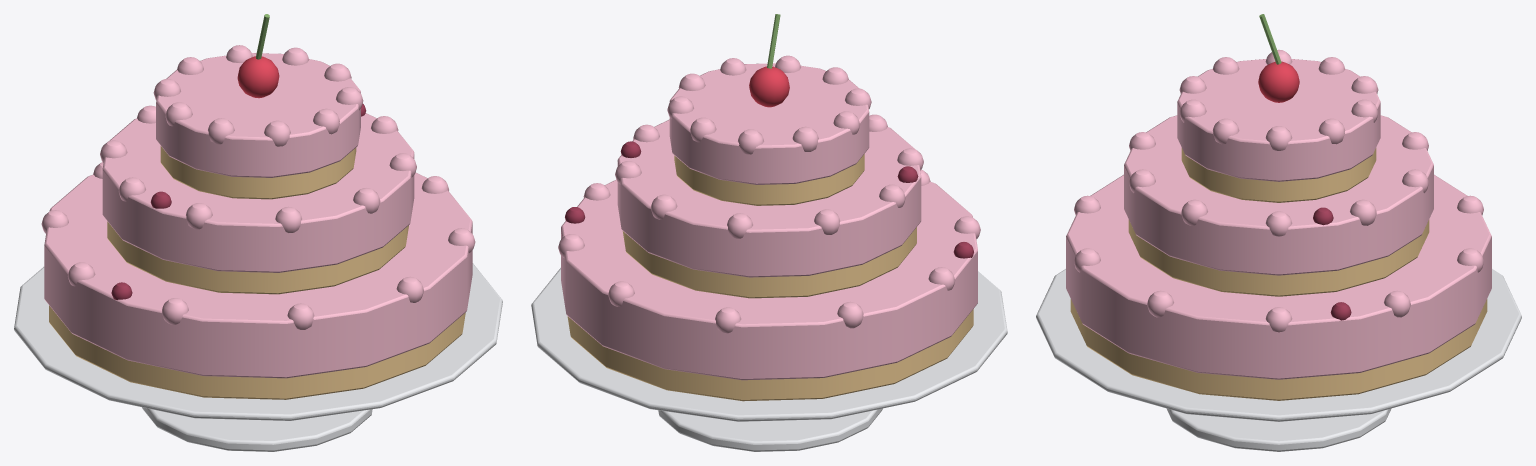
Rendered from cake.low.glb.
3 views of the same model, side by side, from view 1: azimuth 30°, elevation 25°; view 2: azimuth 150°, elevation 25°; view 3: azimuth 270°, elevation 25° (orthographic). The views are drawn at different scales.
Parts seen in each view (by area): view 1: tier1, tier2, stand, tier3, cream3, cream2, cream1, topper, berries; view 2: tier1, tier2, stand, tier3, cream3, cream2, cream1, topper, berries; view 3: tier1, tier2, tier3, stand, cream3, cream1, cream2, topper, berries.
Part boxes in pixels (x1,y1,x2,y2): tier1: (44,172,472,399); tier2: (102,113,414,294); stand: (14,263,502,451); tier3: (156,53,360,199); cream3: (153,45,363,146); cream2: (100,105,416,232); cream1: (41,162,475,329); topper: (237,14,279,98); berries: (111,103,366,299); tier1: (561,179,977,401); tier2: (617,119,921,298); stand: (531,268,1007,451); tier3: (669,63,869,205); cream3: (667,55,871,154); cream2: (615,114,923,238); cream1: (558,169,980,333); topper: (749,14,789,107); berries: (565,141,973,258); tier1: (1066,174,1491,400); tier2: (1124,115,1433,296); tier3: (1177,59,1380,202); stand: (1036,269,1521,451); cream3: (1179,49,1378,150); cream1: (1074,195,1483,332); cream2: (1129,132,1428,236); topper: (1258,14,1299,102); berries: (1313,207,1351,320).
Bounding box in the file's own units: 2.1 × 1.86 × 2.1.
